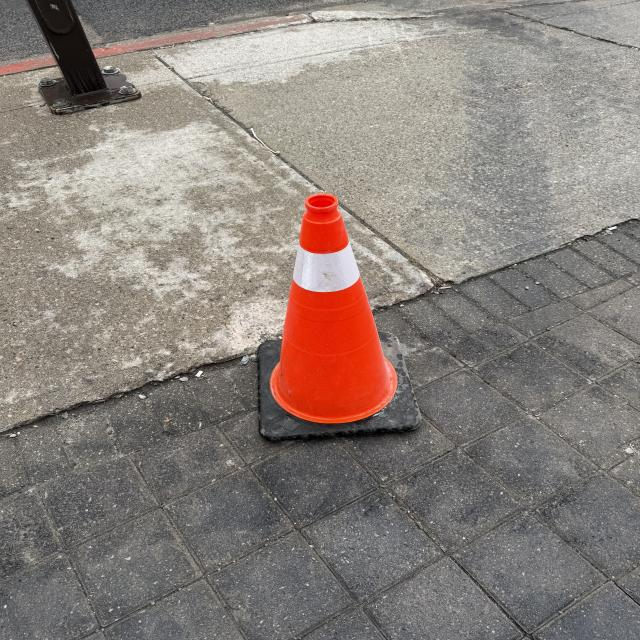Traffic Cone: (256, 192, 424, 440)
